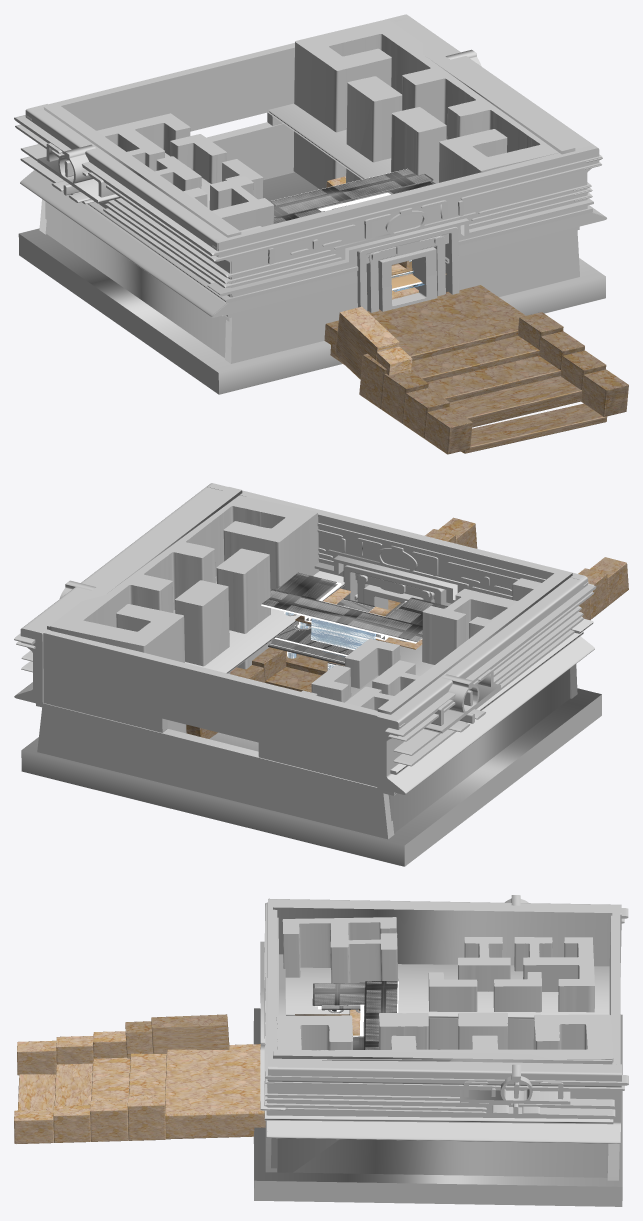
The model's file is newtempletest.glb.
3 views of the same model, one above another, from view 1: azimuth 30°, elevation 25°; view 2: azimuth 150°, elevation 25°; view 3: azimuth 270°, elevation 25° (orthographic). The views are drawn at different scales.
Visible parts, largest first — view 1: Selection.001, Selection #1.015, Selection #4.010, Selection #1.016, Selection #4.009, Selection.187, stairs.067, Selection.131, Selection.095, Selection.153, stairs.065, stairs.061 (+28 smaller); view 2: Selection #1.016, Selection.154, Selection #4.010, Selection.001, Selection.187, Selection #4.009, Selection #1.015, Selection.188, Selection.005, Selection.003, Selection.002, stairs.524 (+32 smaller); view 3: Selection.188, Selection #4.008, Selection #4.010, Selection #4.009, Selection.001, stairs.067, Selection.005, stairs.061, Selection #2.013, Selection.007, stairs.064, stairs.065 (+30 smaller).
Boxes of the visible parts, box(x1,y1,x2,y2) form: Selection.001: box(293, 19, 558, 189); Selection #1.015: box(212, 144, 606, 317); Selection #4.010: box(18, 172, 605, 394); Selection #1.016: box(26, 17, 409, 131); Selection #4.009: box(43, 103, 241, 357); Selection.187: box(20, 104, 231, 317); stairs.067: box(324, 285, 525, 364); Selection.131: box(225, 282, 357, 363); Selection.095: box(445, 226, 579, 296); Selection.153: box(357, 227, 459, 312); stairs.065: box(359, 353, 472, 454); stairs.061: box(518, 312, 628, 416); Selection #1.016: box(27, 624, 404, 786); Selection.154: box(36, 703, 396, 839); Selection #4.010: box(21, 688, 601, 866); Selection.001: box(50, 495, 319, 733); Selection.187: box(376, 576, 594, 794); Selection #4.009: box(377, 569, 572, 833); Selection #1.015: box(207, 483, 594, 647); Selection.188: box(14, 483, 222, 704); Selection.005: box(422, 578, 541, 664); Selection.003: box(216, 548, 271, 678); Selection.002: box(175, 580, 230, 673); stairs.524: box(262, 589, 422, 642); Selection.188: box(267, 1058, 621, 1143); Selection #4.008: box(271, 1049, 612, 1177); Selection #4.010: box(253, 1008, 622, 1206); Selection #4.009: box(273, 901, 612, 966); Selection.001: box(276, 1014, 613, 1172); stairs.067: box(165, 1044, 265, 1139); Selection.005: box(282, 917, 398, 983); stairs.061: box(14, 1095, 165, 1143); Selection #2.013: box(285, 964, 609, 1019); Selection.007: box(514, 937, 594, 1012); stairs.064: box(125, 1014, 229, 1058); stairs.065: box(17, 1031, 127, 1075).
Size of the model in its own units: 9.9 by 3.58 by 13.85.
Materials: 6 (4 with a texture image).
